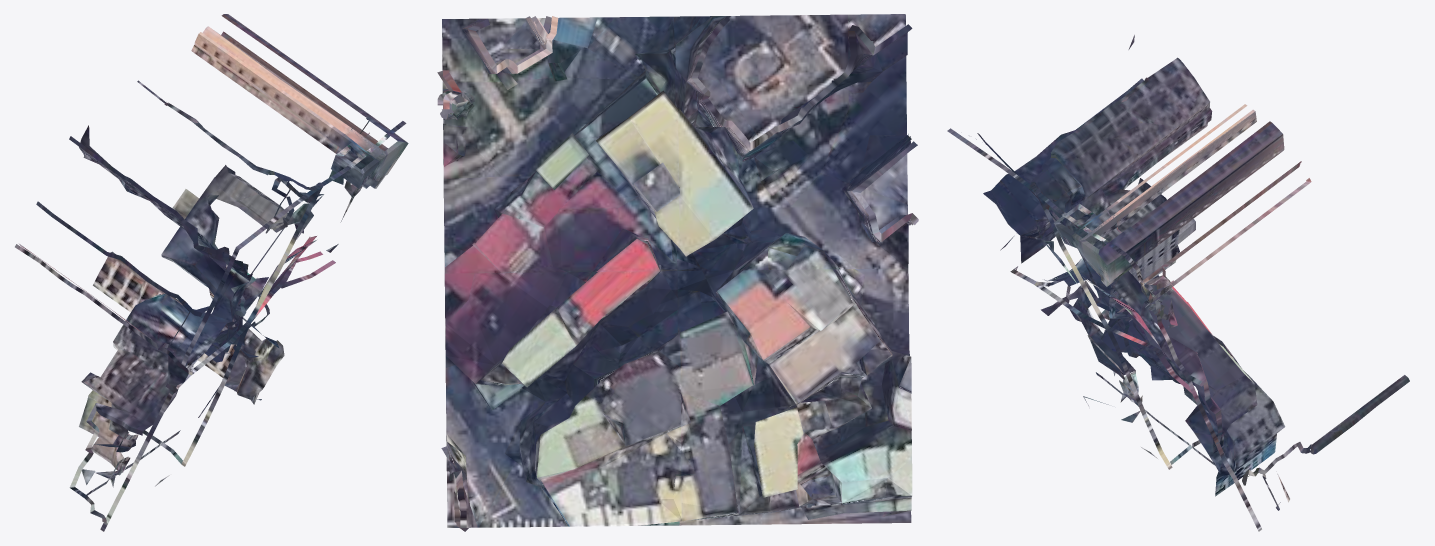
3 renders of one model, left to right at view 1: azimuth 30°, elevation 25°; view 2: azimuth 150°, elevation 25°; view 3: azimuth 270°, elevation 25°, orthographic. The views are drawn at different scales.
Bounding box in the file's own units: 86.69 × 87.54 × 95.64.
2 materials, 2 textured.
